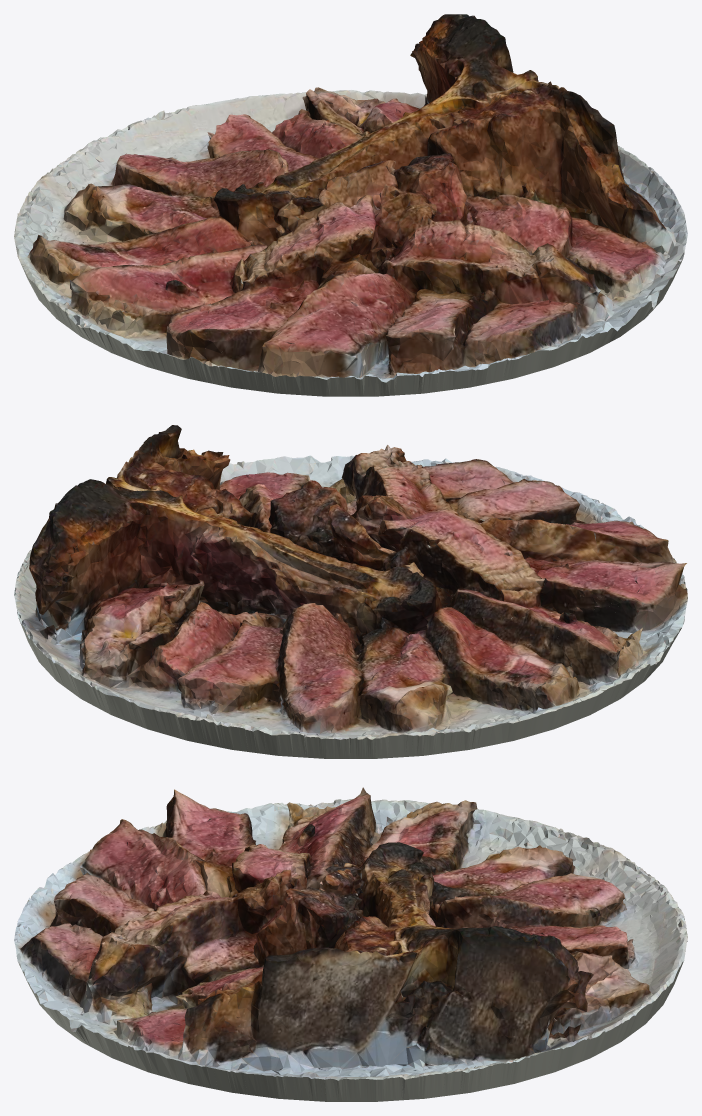
File: bistecca-fiorentina-premium.glb
The picture shows the model from 3 angles, top to bottom: view 1: azimuth 30°, elevation 25°; view 2: azimuth 150°, elevation 25°; view 3: azimuth 270°, elevation 25°; orthographic projection.
Parts seen in each view (by area): view 1: FlorenceSteak_Model_3_FlorenceSteak_Model_3_u1_v1_0, FlorenceSteak_Model_3_FlorenceSteak_Model_3_u1_v1_1, FlorenceSteak_Model_3.001_Plate_0; view 2: FlorenceSteak_Model_3_FlorenceSteak_Model_3_u1_v1_0, FlorenceSteak_Model_3_FlorenceSteak_Model_3_u1_v1_1, FlorenceSteak_Model_3.001_Plate_0; view 3: FlorenceSteak_Model_3_FlorenceSteak_Model_3_u1_v1_0, FlorenceSteak_Model_3_FlorenceSteak_Model_3_u1_v1_1, FlorenceSteak_Model_3.001_Plate_0.
Part boxes in pixels (bbox=[...]): FlorenceSteak_Model_3_FlorenceSteak_Model_3_u1_v1_0: bbox=[14, 14, 687, 382]; FlorenceSteak_Model_3_FlorenceSteak_Model_3_u1_v1_1: bbox=[14, 105, 513, 379]; FlorenceSteak_Model_3.001_Plate_0: bbox=[14, 148, 681, 396]; FlorenceSteak_Model_3_FlorenceSteak_Model_3_u1_v1_0: bbox=[14, 425, 687, 739]; FlorenceSteak_Model_3_FlorenceSteak_Model_3_u1_v1_1: bbox=[174, 472, 687, 739]; FlorenceSteak_Model_3.001_Plate_0: bbox=[18, 462, 687, 758]; FlorenceSteak_Model_3_FlorenceSteak_Model_3_u1_v1_0: bbox=[14, 789, 687, 1080]; FlorenceSteak_Model_3_FlorenceSteak_Model_3_u1_v1_1: bbox=[16, 787, 687, 957]; FlorenceSteak_Model_3.001_Plate_0: bbox=[17, 801, 687, 1101].
Size of the model in its own units: 0.3191 by 0.0861 by 0.32.
2 materials, 1 textured.
